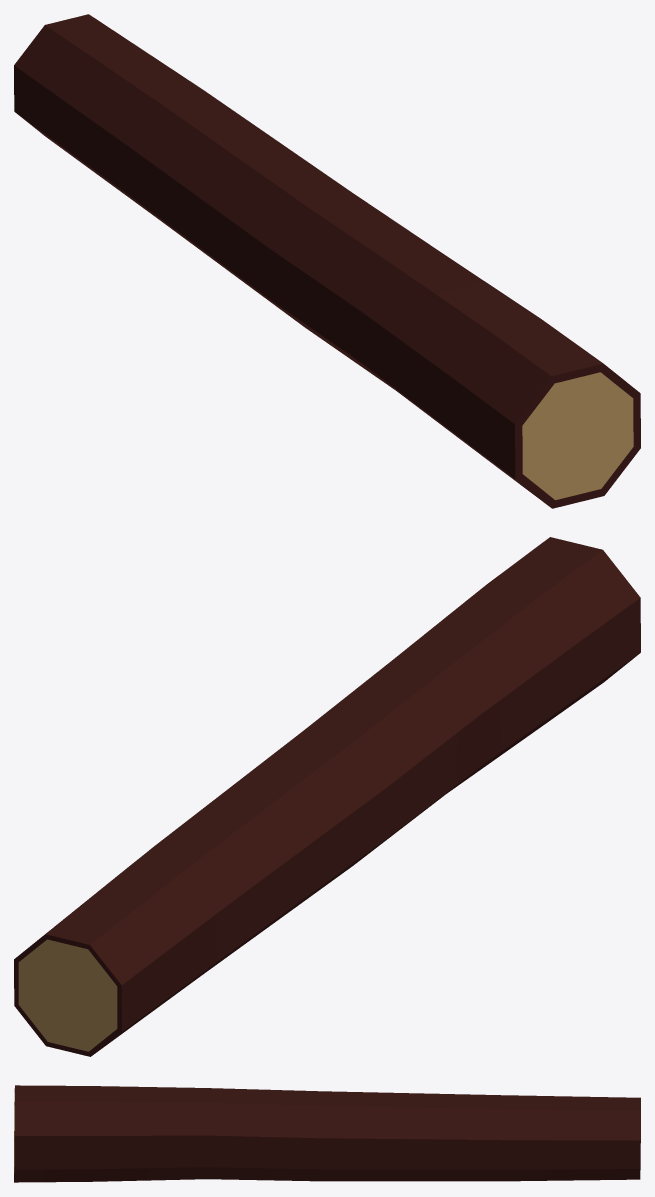
The model's file is SM_WoodLog_03.fbx.
3 views of the same model, one above another, from view 1: azimuth 30°, elevation 25°; view 2: azimuth 150°, elevation 25°; view 3: azimuth 270°, elevation 25° (orthographic). The views are drawn at different scales.
Visible parts, largest first — view 1: Wood Log v3; view 2: Wood Log v3; view 3: Wood Log v3.
Part boxes in pixels (left/top/right/bottom): Wood Log v3: left=14, top=14, right=640, bottom=508; Wood Log v3: left=14, top=537, right=640, bottom=1056; Wood Log v3: left=14, top=1085, right=640, bottom=1182.
Bounding box in the file's own units: 10.74 × 10.76 × 75.01.
